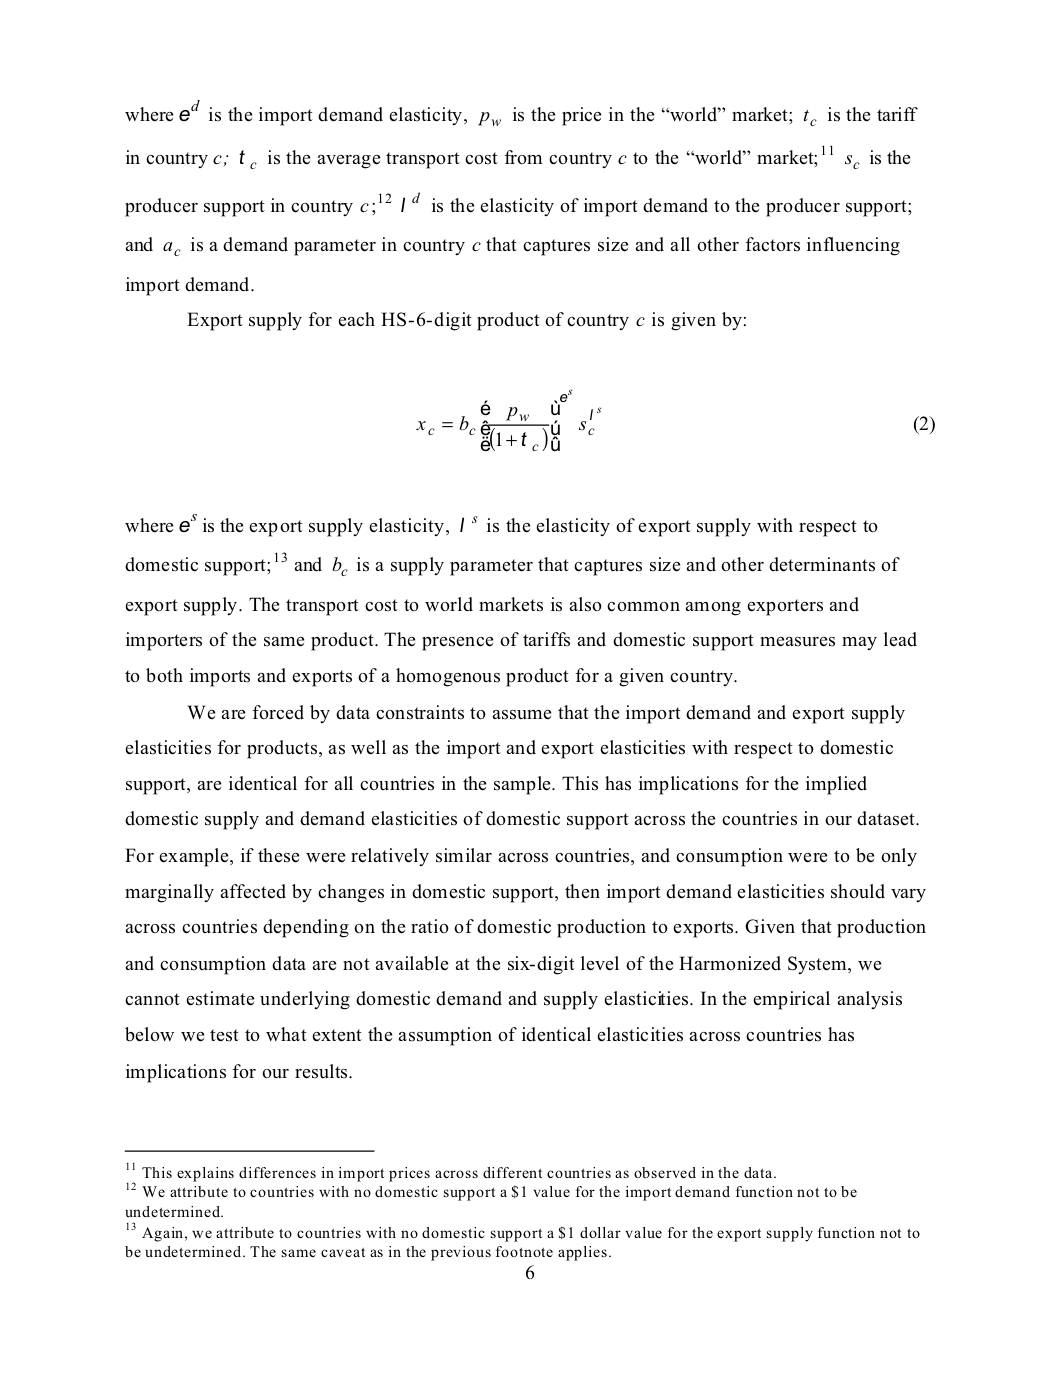figure: (124, 1149, 374, 1152)
formula: (416, 388, 934, 452)
